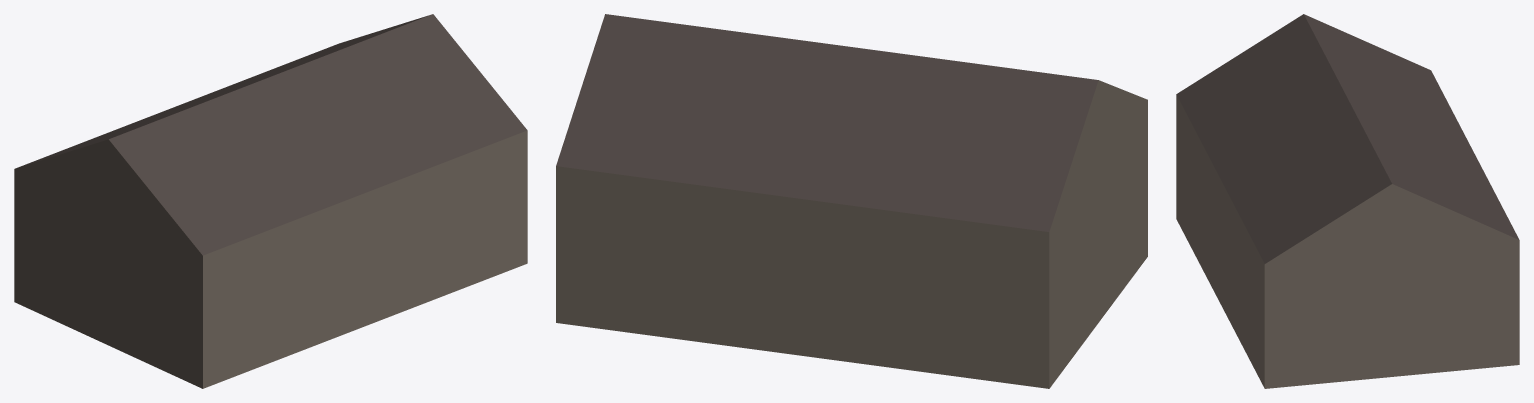
3 renders of one model, left to right at view 1: azimuth 30°, elevation 25°; view 2: azimuth 150°, elevation 25°; view 3: azimuth 270°, elevation 25°, orthographic. The views are drawn at different scales.
Parts seen in each view (by area): view 1: HP-w1287048324; view 2: HP-w1287048324; view 3: HP-w1287048324.
Boxes of the visible parts, x1=… form: HP-w1287048324: x1=14, y1=14, x2=527, y2=388; HP-w1287048324: x1=556, y1=14, x2=1147, y2=388; HP-w1287048324: x1=1176, y1=14, x2=1519, y2=388.
Size of the model in its own units: 20 by 9.29 by 14.97.
